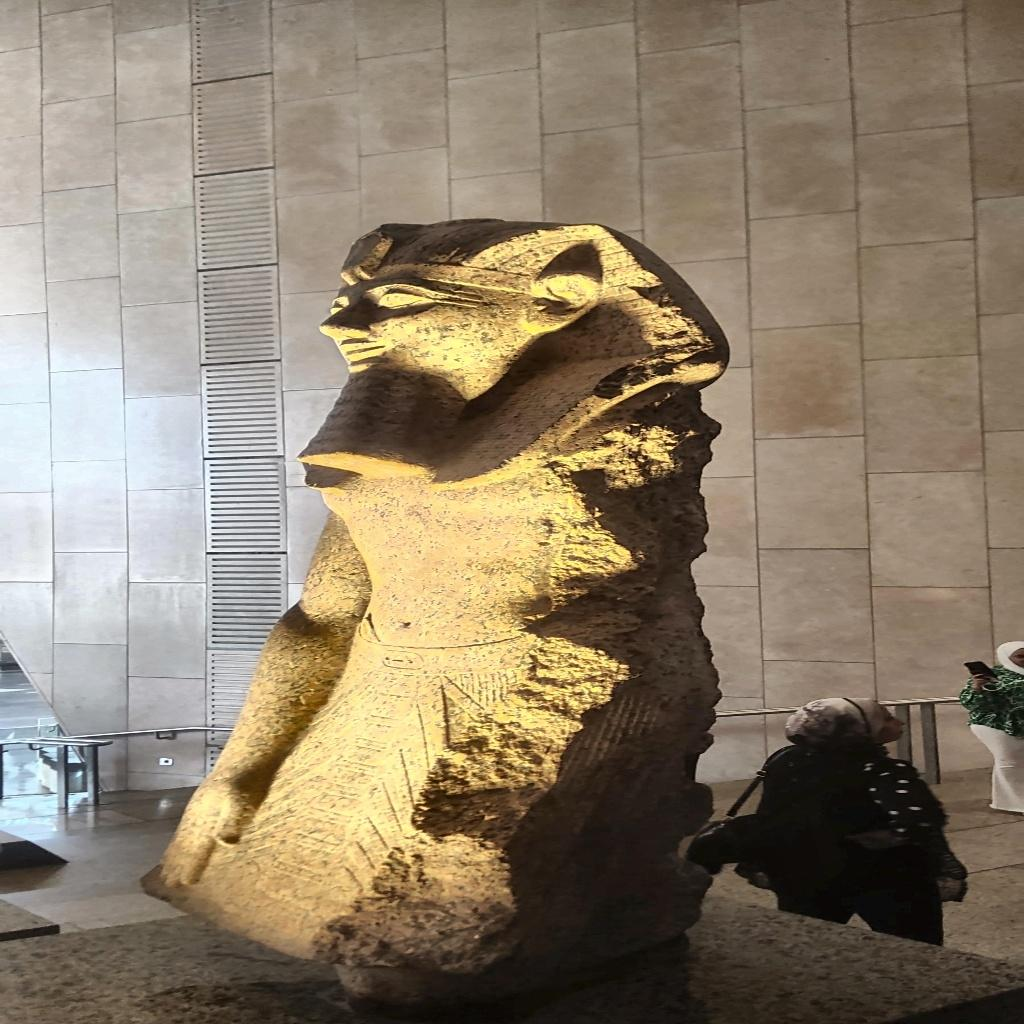Standing Statue of Thutmose III: (138, 216, 738, 1012)
